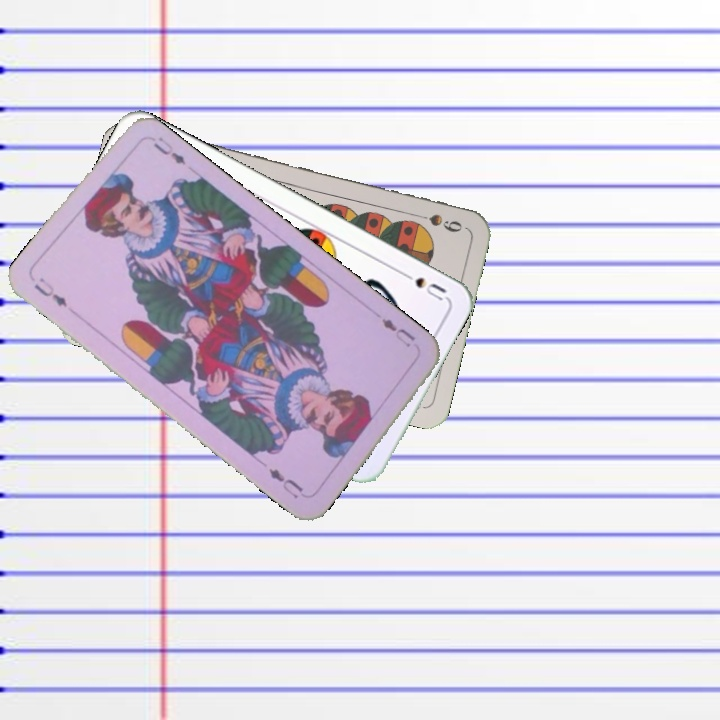EU: (29, 273, 70, 311), (377, 314, 418, 351)
S9: (408, 209, 465, 235)
SU: (395, 266, 449, 304)
